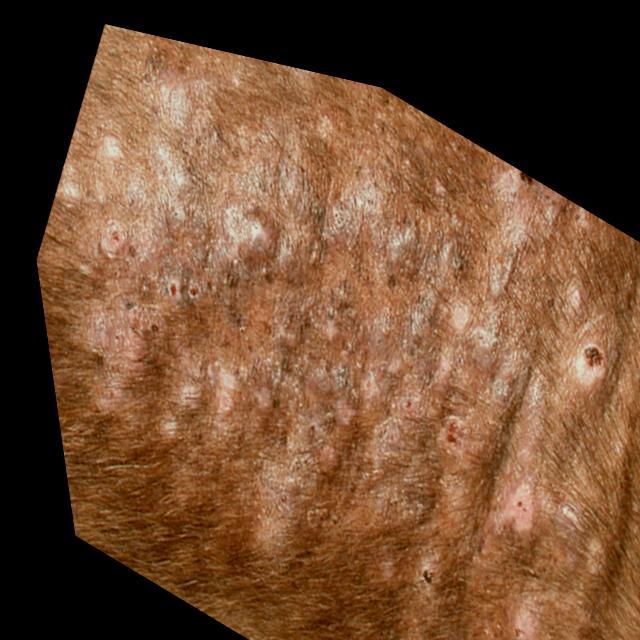viem da do vi khuan (cho): (25, 22, 639, 640)
